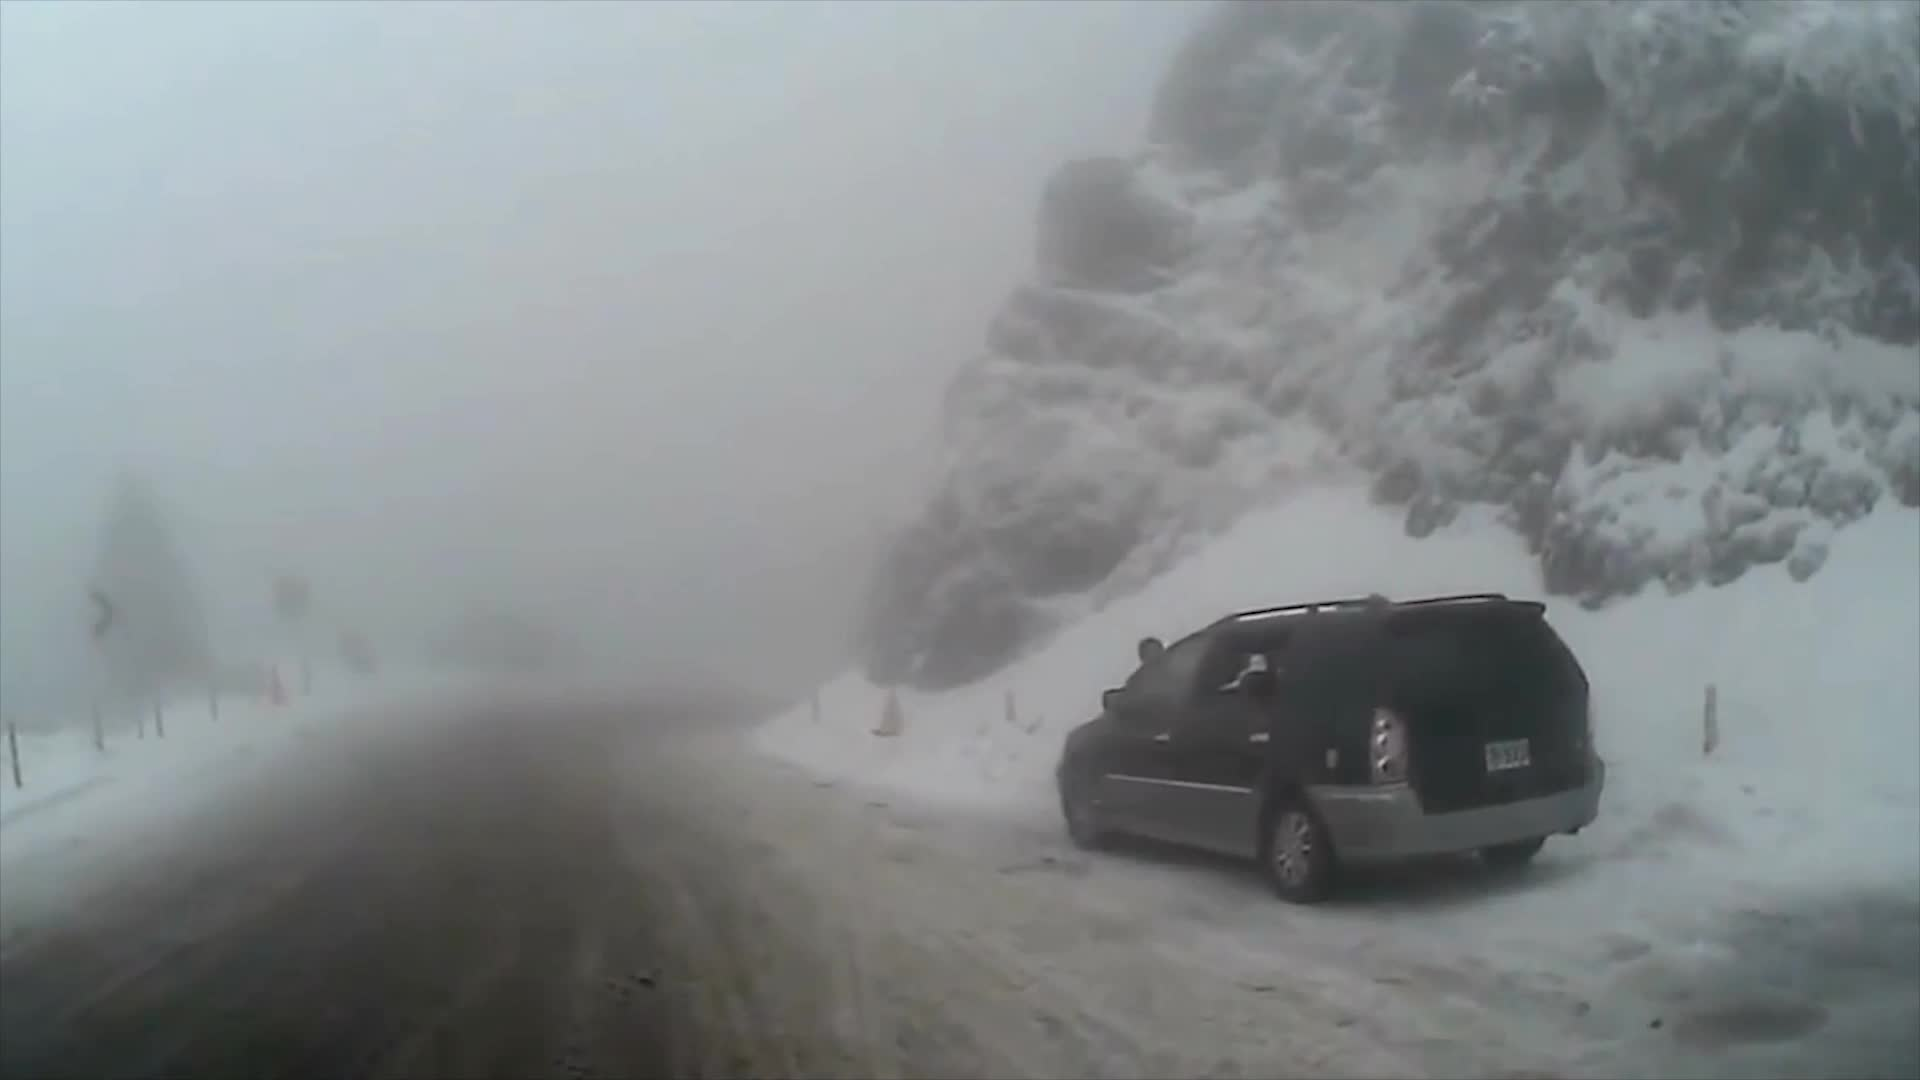vehicle: (1054, 589, 1605, 906)
